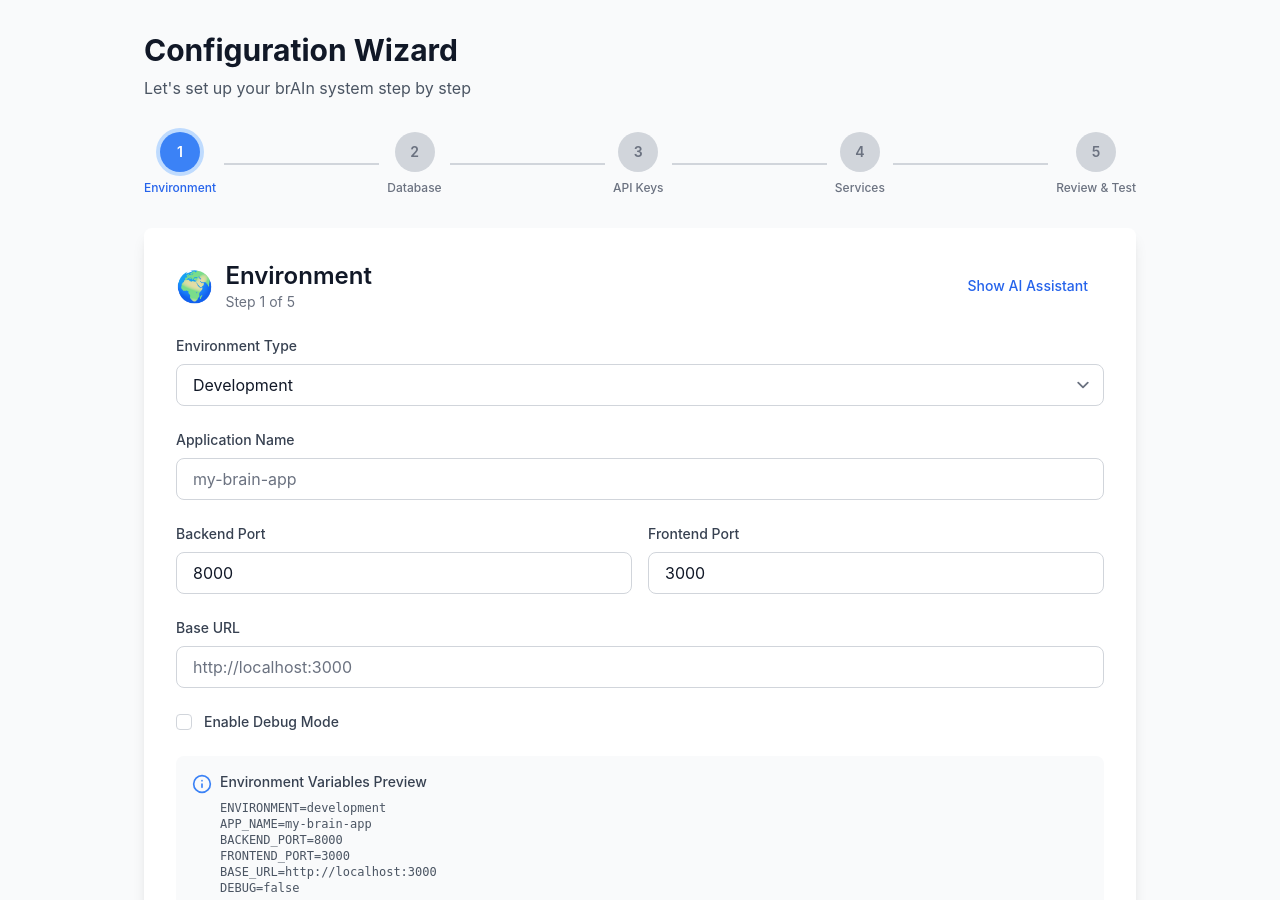
ConfigWizard › AI Assistant Integration › should toggle AI assistant visibility
This screenshot has width=1280, height=900.
Expected: the text "AI Assistant coming soon..." is not shown
# Show assistant
Click the button "Show AI Assistant".
click(1028, 286)  # box [952,268,1104,304]
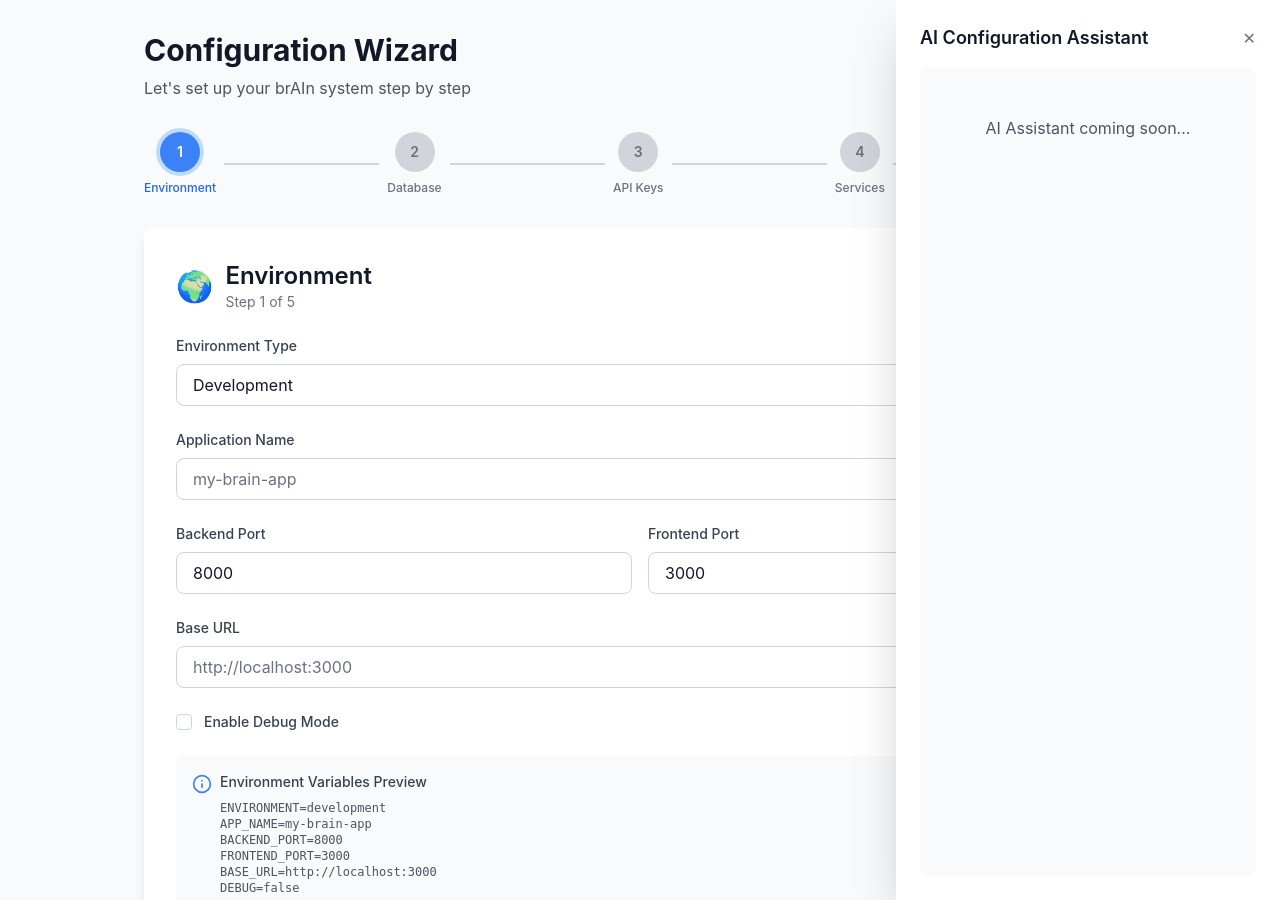
Expected: the heading "AI Configuration Assistant" is shown, [920,24,1148,52]
# Hide assistant
Click the button "✕".
click(1249, 38)  # box [1243,26,1256,50]
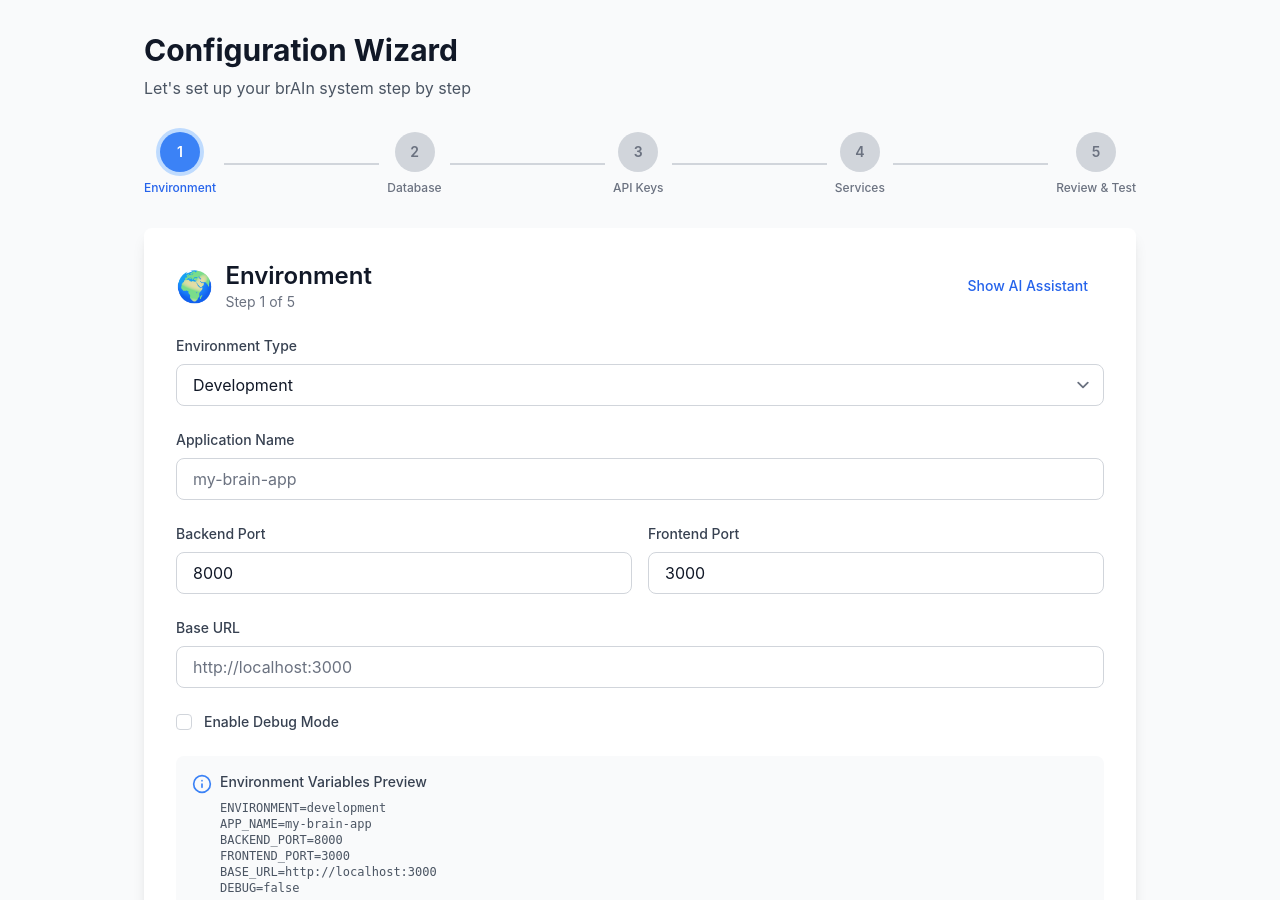
Expected: the heading "AI Configuration Assistant" is gone
